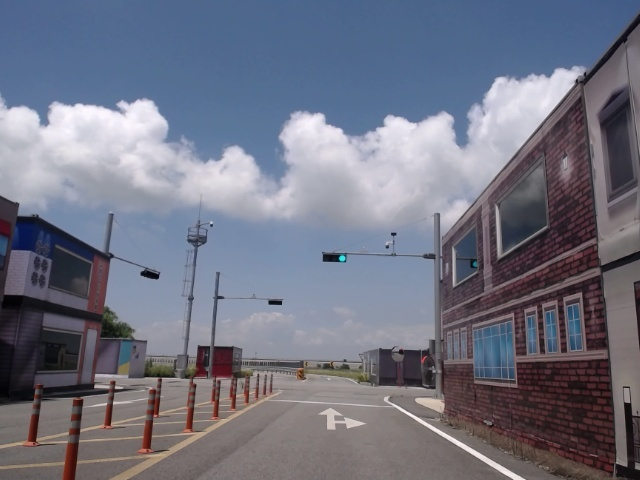green_3: (324, 254, 347, 261)
